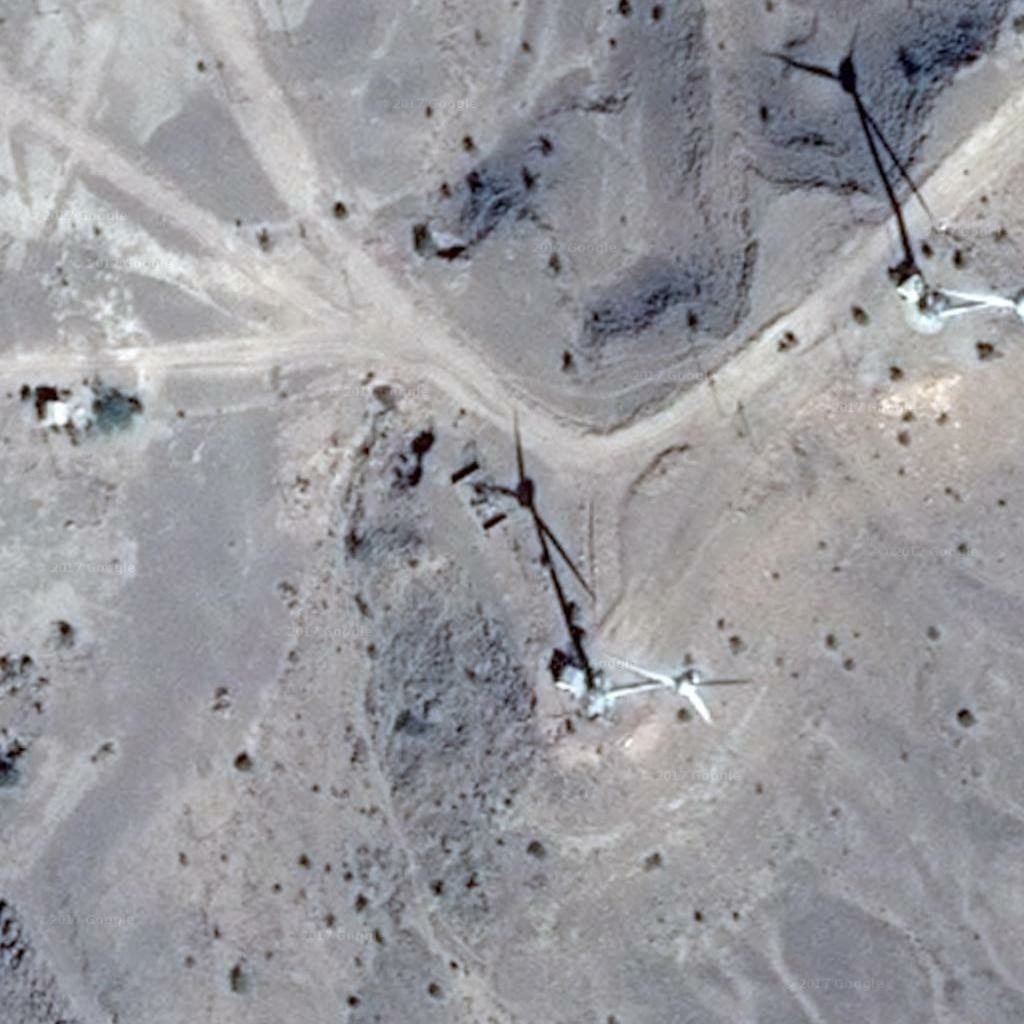Windmill: (471, 405, 608, 678)
